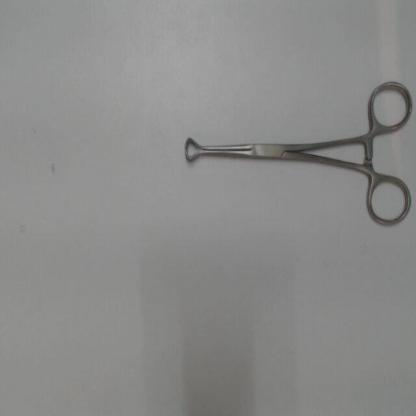Babcock Tissue Forceps: (181, 77, 415, 233)
